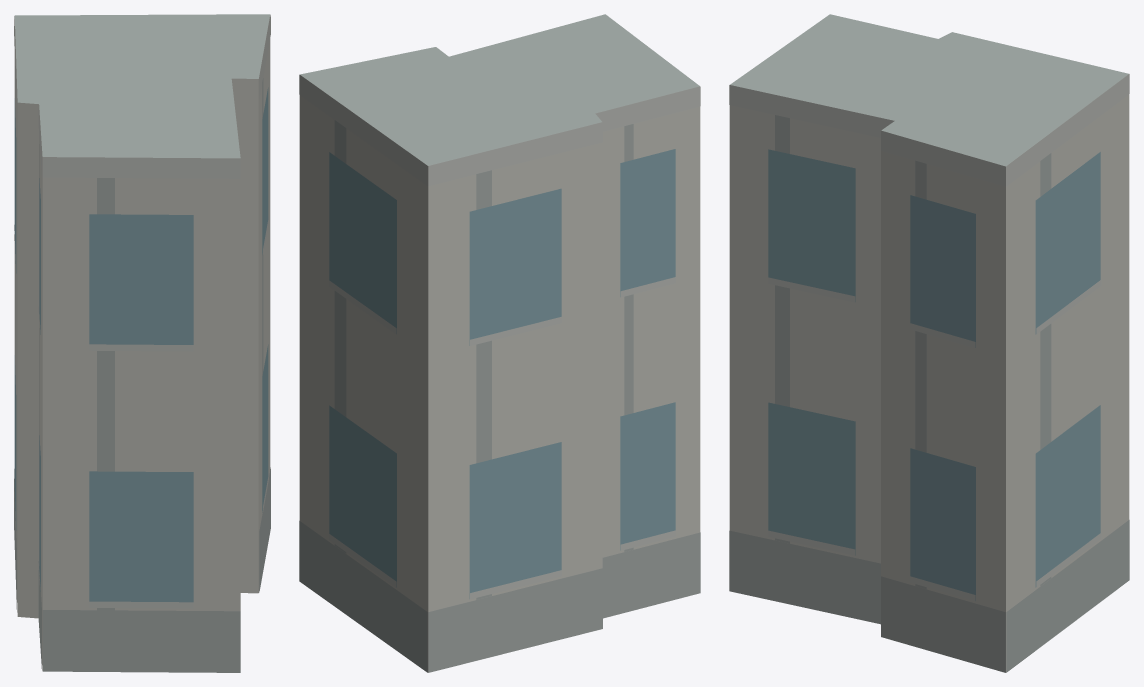
File: survey-upis-32578502.glb
3 views of the same model, side by side, from view 1: azimuth 30°, elevation 25°; view 2: azimuth 150°, elevation 25°; view 3: azimuth 270°, elevation 25° (orthographic).
Parts seen in each view (by area): view 1: survey-upis-32578502.tmp; view 2: survey-upis-32578502.tmp; view 3: survey-upis-32578502.tmp.
Boxes of the visible parts, <box> form: survey-upis-32578502.tmp: <box>14,14,270,672</box>; survey-upis-32578502.tmp: <box>299,14,700,672</box>; survey-upis-32578502.tmp: <box>729,14,1129,672</box>.
Size of the model in its own units: 3.95 by 6.1 by 4.37.
